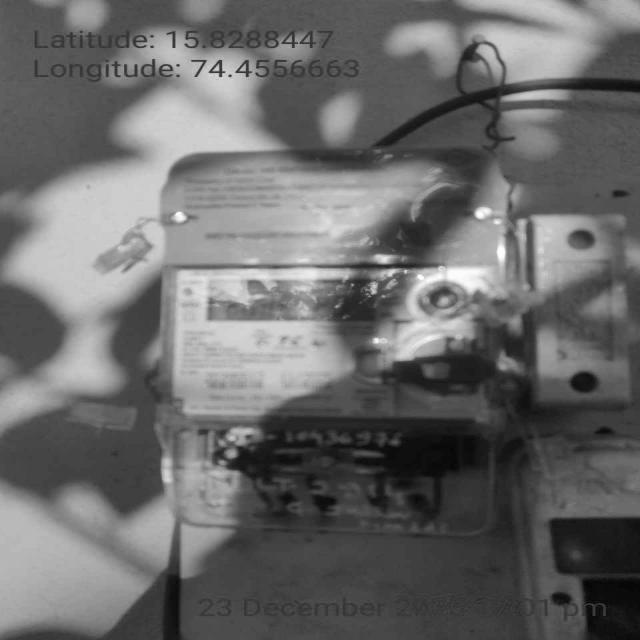meter: (160, 152, 524, 420)
